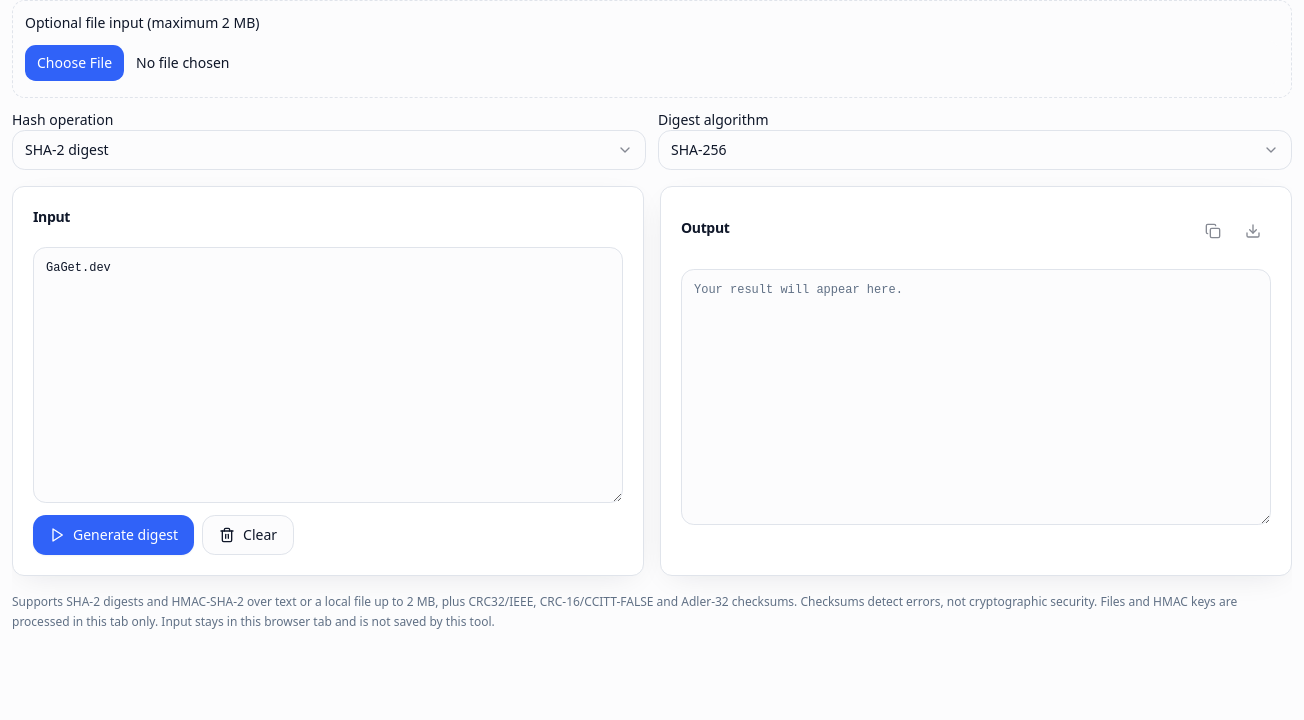
Test case: DeveloperToolWorkbench › computes a SHA-256 digest through the browser crypto interface
The width and height of the screenshot is (1304, 720).
Replace the text in the text box named "Hash & Checksum Generator input" with "abc" at (328, 375), box [33,247,623,503]
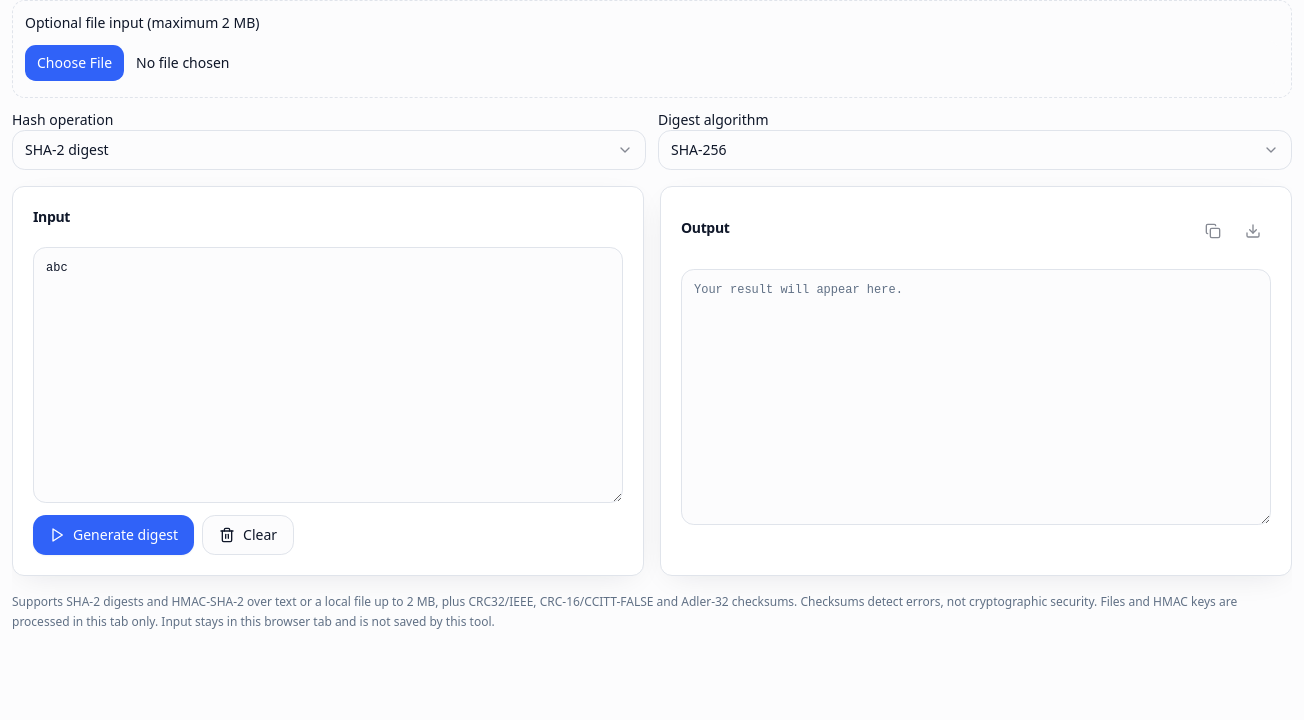
Click the button "Generate digest".
click(114, 535)  # box [33,515,194,555]
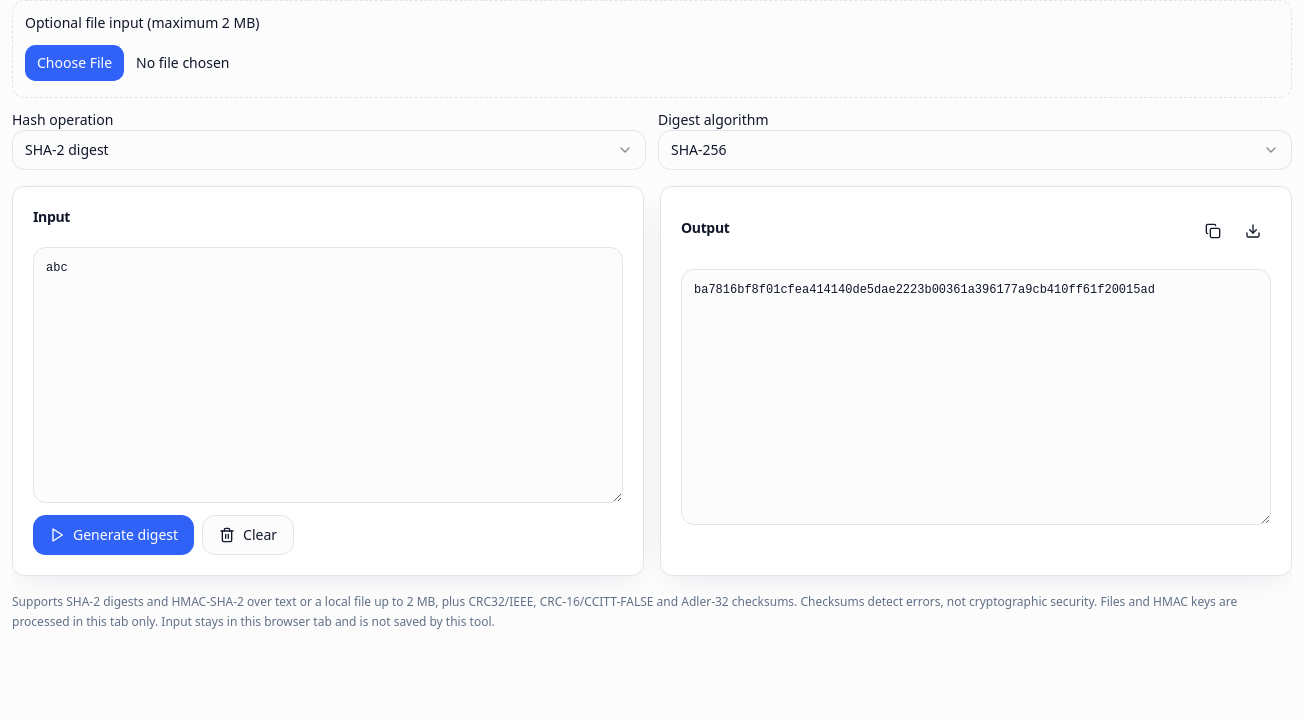
Check: the text box named "Hash & Checksum Generator output" holds "ba7816bf8f01cfea414140de5dae2223b00361a396177a9cb410ff61f20015ad", box [681,269,1271,525]
